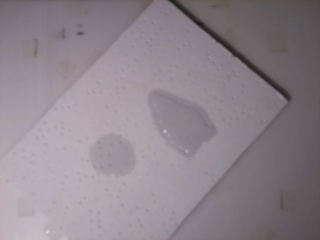Water_detected: (156, 95, 215, 156), (103, 143, 140, 174)
